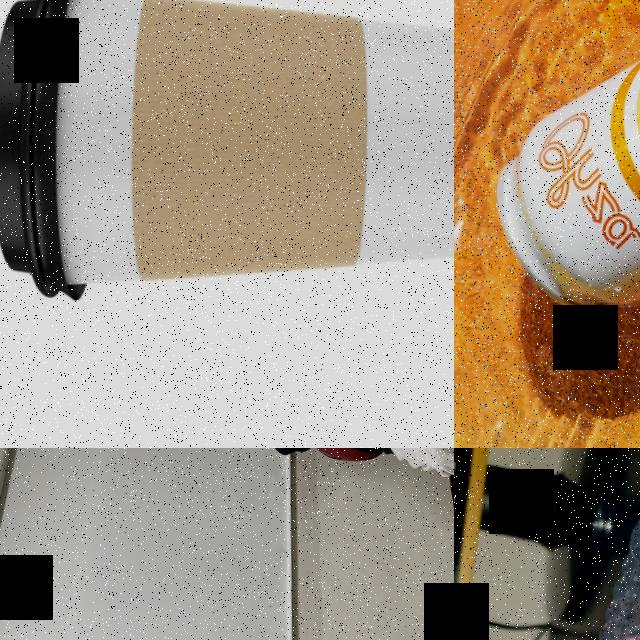bottle: (520, 492, 640, 640)
can: (491, 0, 640, 320)
cup: (0, 0, 454, 306)
